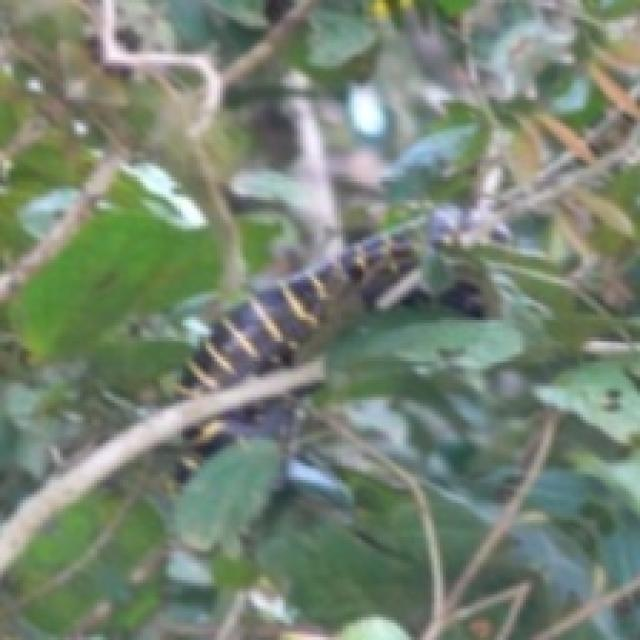mangrove cat snake: (177, 217, 426, 397)
